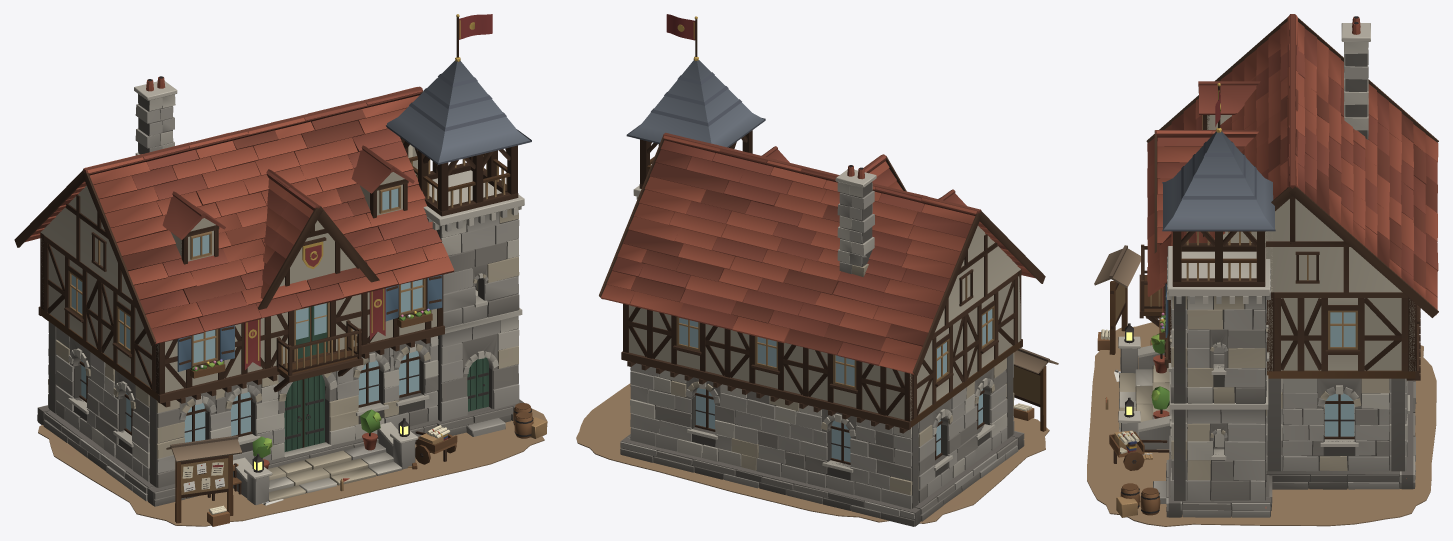
Rendered from townhall.glb.
3 renders of one model, left to right at view 1: azimuth 30°, elevation 25°; view 2: azimuth 150°, elevation 25°; view 3: azimuth 270°, elevation 25°, orthographic. The views are drawn at different scales.
Visible parts, largest first — view 1: stage_09_mesh, stage_03_mesh, stage_11_mesh, stage_12_mesh, stage_06_mesh, stage_08_mesh, stage_01_mesh, stage_10_mesh, stage_14_mesh, stage_05_mesh, stage_07_mesh, stage_04_mesh (+5 smaller); view 2: stage_09_mesh, stage_03_mesh, stage_06_mesh, stage_07_mesh, stage_01_mesh, stage_02_mesh, stage_12_mesh, stage_10_mesh, stage_08_mesh, stage_14_mesh, stage_05_mesh, flag; view 3: stage_09_mesh, stage_11_mesh, stage_01_mesh, stage_03_mesh, stage_12_mesh, stage_06_mesh, stage_14_mesh, stage_02_mesh, stage_07_mesh, stage_10_mesh, stage_04_mesh, stage_08_mesh (+1 smaller).
Part boxes in pixels (<box>): stage_09_mesh: <box>14,86,454,345</box>; stage_03_mesh: <box>48,321,438,487</box>; stage_11_mesh: <box>423,170,524,436</box>; stage_12_mesh: <box>386,57,531,216</box>; stage_06_mesh: <box>38,232,444,407</box>; stage_08_mesh: <box>64,271,442,392</box>; stage_01_mesh: <box>38,408,547,526</box>; stage_10_mesh: <box>134,76,414,264</box>; stage_14_mesh: <box>166,403,546,526</box>; stage_05_mesh: <box>79,350,420,457</box>; stage_07_mesh: <box>41,238,436,392</box>; stage_04_mesh: <box>233,422,418,504</box>; stage_09_mesh: <box>599,132,1045,375</box>; stage_03_mesh: <box>630,352,1014,509</box>; stage_06_mesh: <box>621,269,1022,433</box>; stage_07_mesh: <box>629,276,1020,420</box>; stage_01_mesh: <box>576,383,1049,523</box>; stage_02_mesh: <box>620,431,1024,526</box>; stage_12_mesh: <box>626,56,765,188</box>; stage_10_mesh: <box>761,146,966,276</box>; stage_08_mesh: <box>673,305,998,392</box>; stage_14_mesh: <box>1013,348,1058,431</box>; stage_05_mesh: <box>695,387,984,464</box>; flag: <box>666,14,695,40</box>; stage_09_mesh: <box>1146,14,1438,317</box>; stage_11_mesh: <box>1153,246,1270,503</box>; stage_01_mesh: <box>1087,322,1436,526</box>; stage_03_mesh: <box>1266,378,1409,471</box>; stage_12_mesh: <box>1162,127,1275,286</box>; stage_06_mesh: <box>1164,292,1420,380</box>; stage_14_mesh: <box>1094,245,1169,517</box>; stage_02_mesh: <box>1166,380,1416,517</box>; stage_07_mesh: <box>1170,298,1415,371</box>; stage_10_mesh: <box>1198,16,1370,236</box>; stage_04_mesh: <box>1118,336,1170,449</box>; stage_08_mesh: <box>1139,244,1420,353</box>.
Size of the model in its own units: 14.74 by 13.66 by 10.5.
